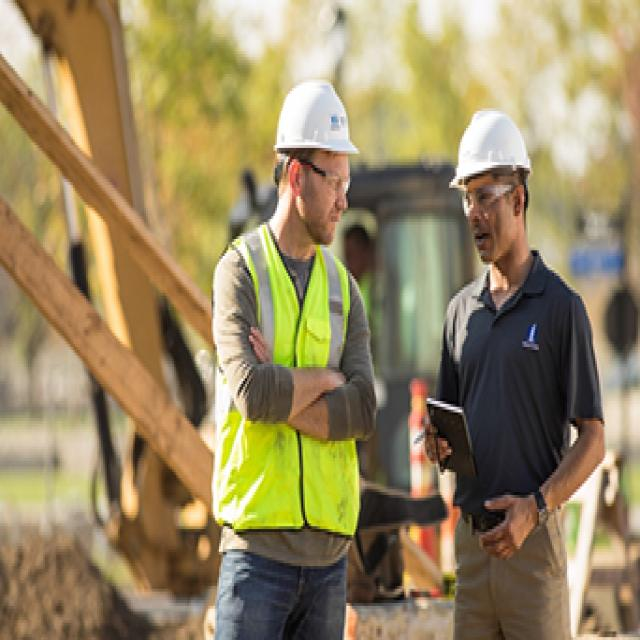Reflective-Jacket: (210, 225, 368, 552)
Safety-Helmet: (270, 71, 363, 165), (449, 102, 535, 194)
